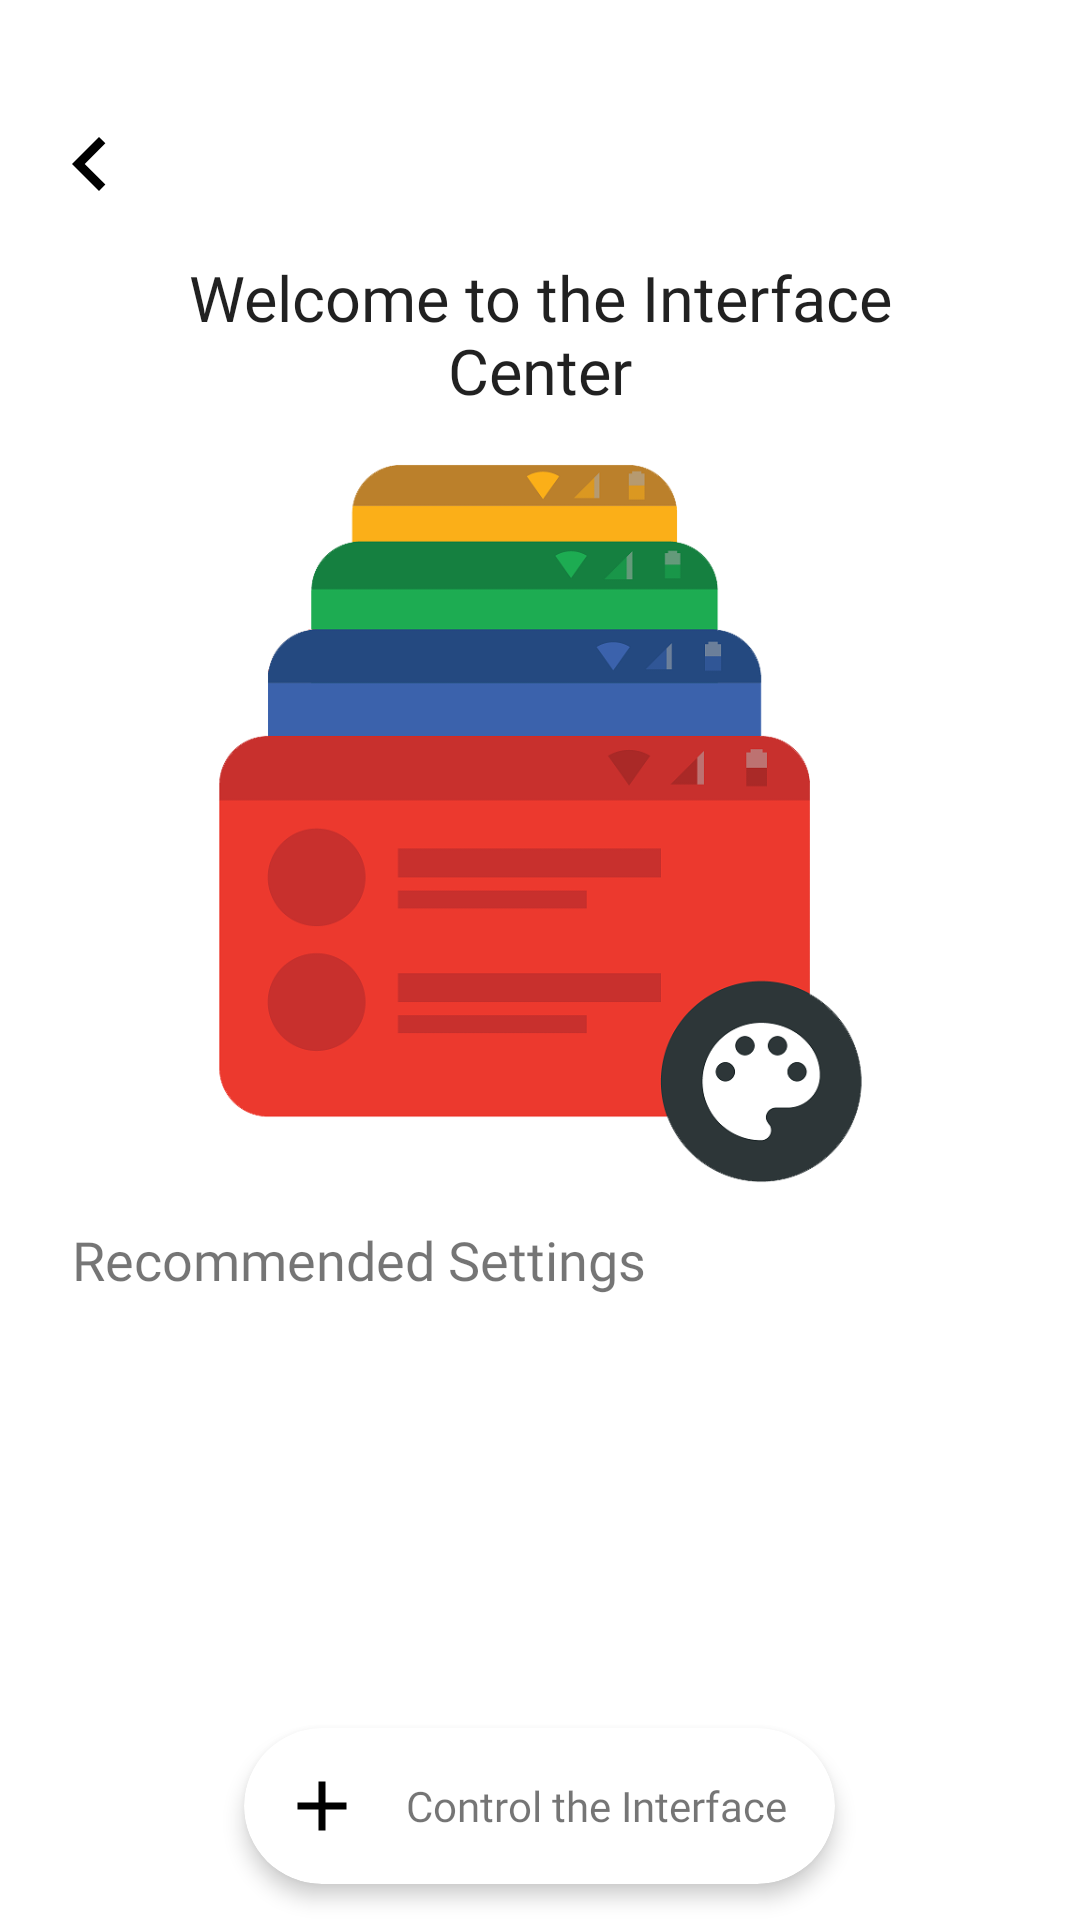

Icon bounding boxes for this 1080x1920 phone screenshot, format (x1, y1, x2, y2):
add: (297, 1781, 347, 1831)
arrow left: (72, 137, 106, 191)
